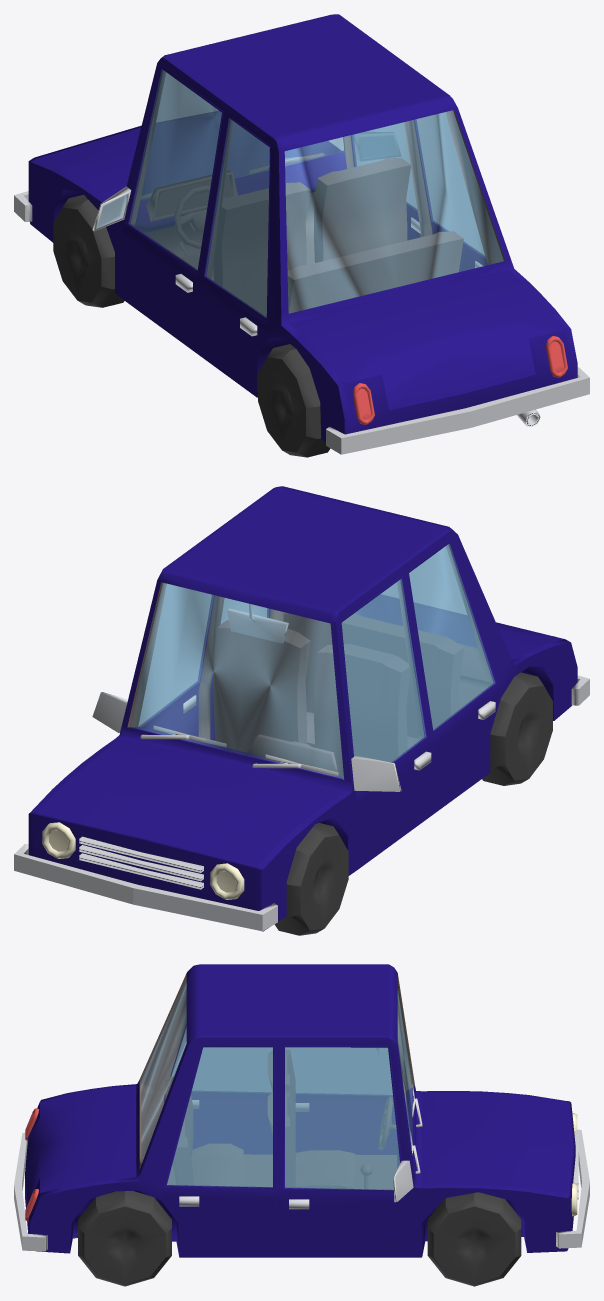
Rendered from KFB_CVP1_sedan.glb.
3 renders of one model, top to bottom at view 1: azimuth 30°, elevation 25°; view 2: azimuth 150°, elevation 25°; view 3: azimuth 270°, elevation 25°, orthographic. The views are drawn at different scales.
Parts seen in each view (by area): view 1: CarMesh, WindowRear.1, Trunk, Glass.2, Hood, Glass, SeatR, SeatRear, SeatL, Interior, DoorFL, WheelRL (+11 smaller); view 2: CarMesh, WindowFront.1, Hood, Glass.2, SeatR, Glass, SeatL, SeatRear, Glass.4, DoorFL, BumperFront, WheelRL (+13 smaller); view 3: CarMesh, Glass.4, Hood, Glass.3, Trunk, DoorFR, WheelRR, WheelFR, DoorRR, Interior, DoorFL, DoorRL (+11 smaller).
Boxes of the visible parts, x1,y1,x2,y2 form: CarMesh: (28,14,577,442); WindowRear.1: (284,110,503,313); Trunk: (289,270,564,410); Glass.2: (128,69,221,270); Hood: (37,113,335,198); Glass: (204,118,269,318); SeatR: (314,157,411,262); SeatRear: (287,231,463,313); SeatL: (213,182,310,316); Interior: (130,70,505,280); DoorFL: (124,66,223,344); WheelRL: (258,344,330,457); CarMesh: (28,486,577,931); WindowFront.1: (129,583,343,779); Hood: (37,739,341,865); Glass.2: (341,578,426,762); SeatR: (213,620,310,752); Glass: (409,543,495,730); SeatL: (314,644,409,779); SeatRear: (283,612,463,748); Glass.4: (138,584,213,726); DoorFL: (340,575,429,862); BumperFront: (14,844,277,931); WheelRL: (482,672,552,785); CarMesh: (25,964,575,1257); Glass.4: (285,1047,400,1190); Hood: (422,1092,570,1193); Glass.3: (167,1047,272,1187); Trunk: (25,1085,136,1203); DoorFR: (283,1045,406,1251); WheelRR: (78,1191,171,1286); WheelFR: (427,1192,521,1286); DoorRR: (161,1045,274,1250); Interior: (139,973,414,1189); DoorFL: (296,1041,400,1154); DoorRL: (164,1024,272,1154).
Size of the model in its own units: 2.19 by 1.9 by 4.16.
